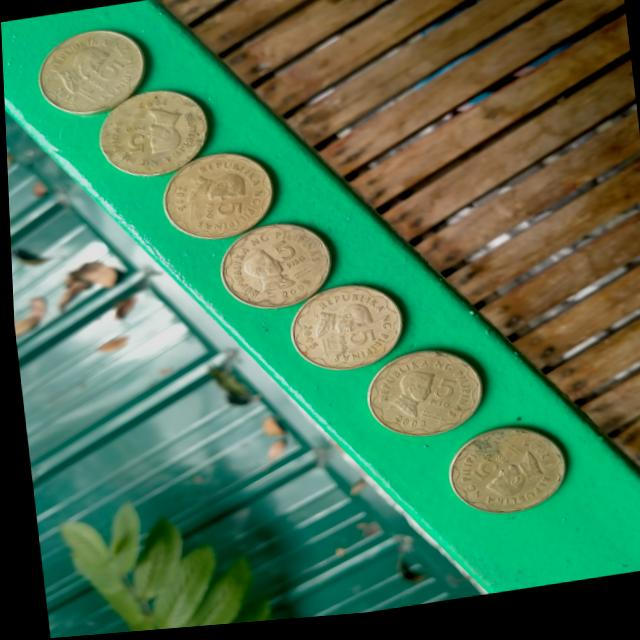5_Old_Front: (218, 225, 326, 317), (453, 435, 555, 519), (373, 360, 468, 441), (104, 99, 197, 177)
